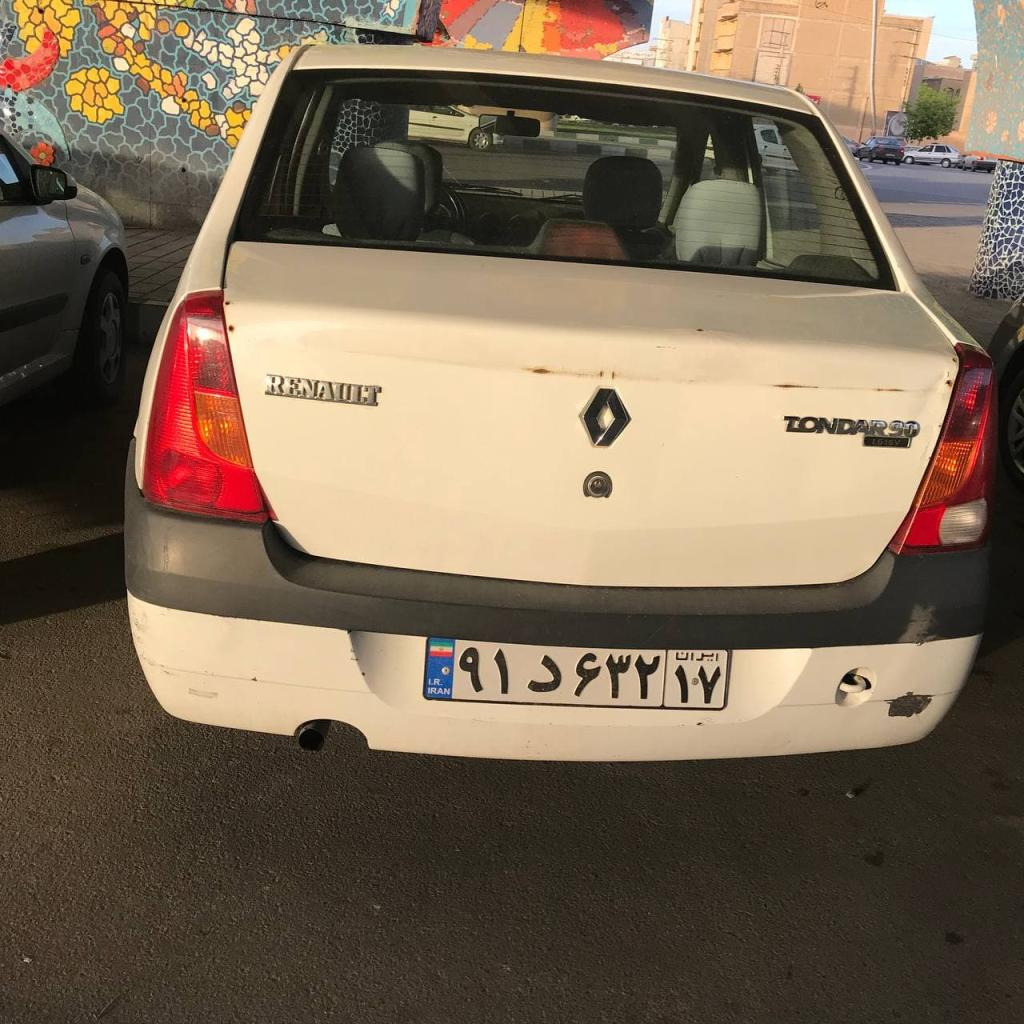Plates: (424, 638, 729, 708)
